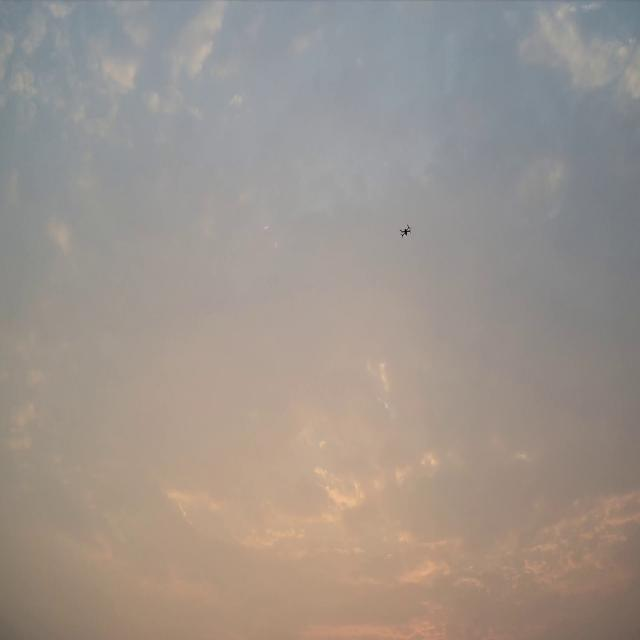drone: (399, 224, 412, 238)
